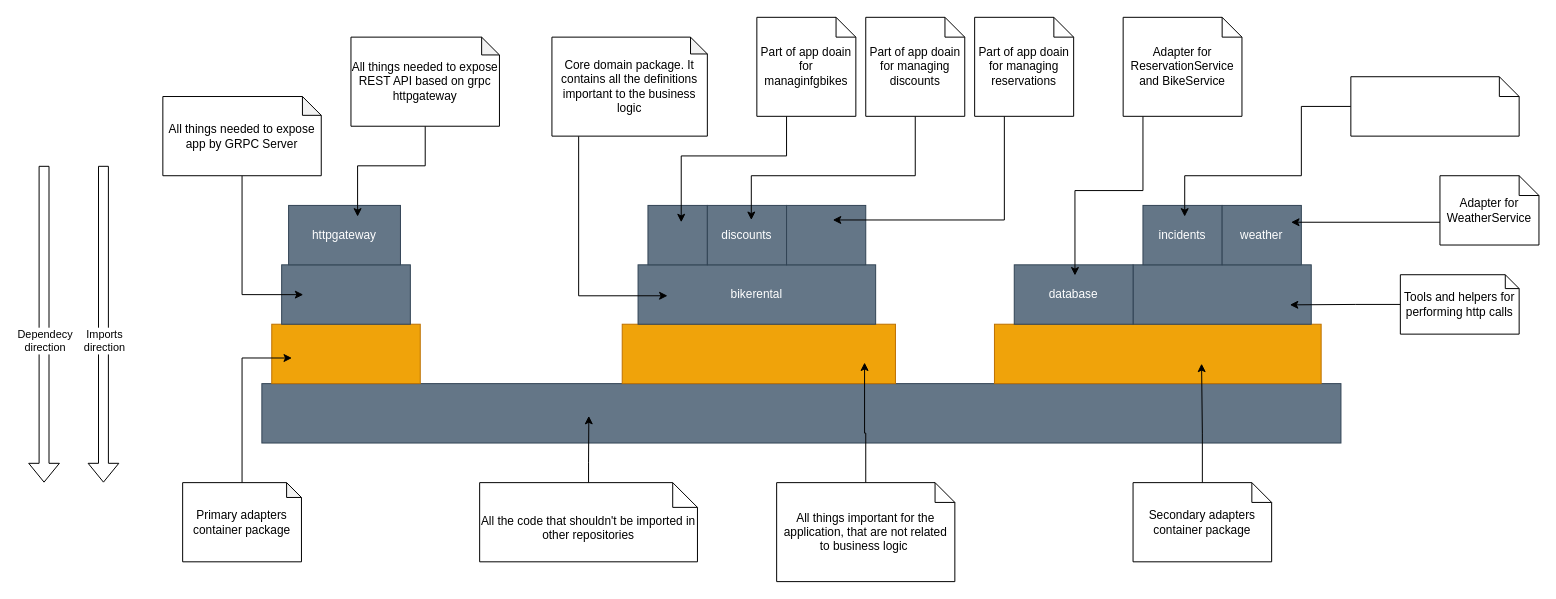
The diagram is 1556 pixels wide and 599 high, and some of its shapes have lost their labels. Each missing label, with the centre of its shape:
adapter: (1157,353)
Adapter for BikeIncidentsService: (1434,106)
app: (758,353)
bikes: (677,234)
grpc: (345,294)
http: (1221,294)
internal: (801,413)
reservation: (826,234)
transport: (345,353)
